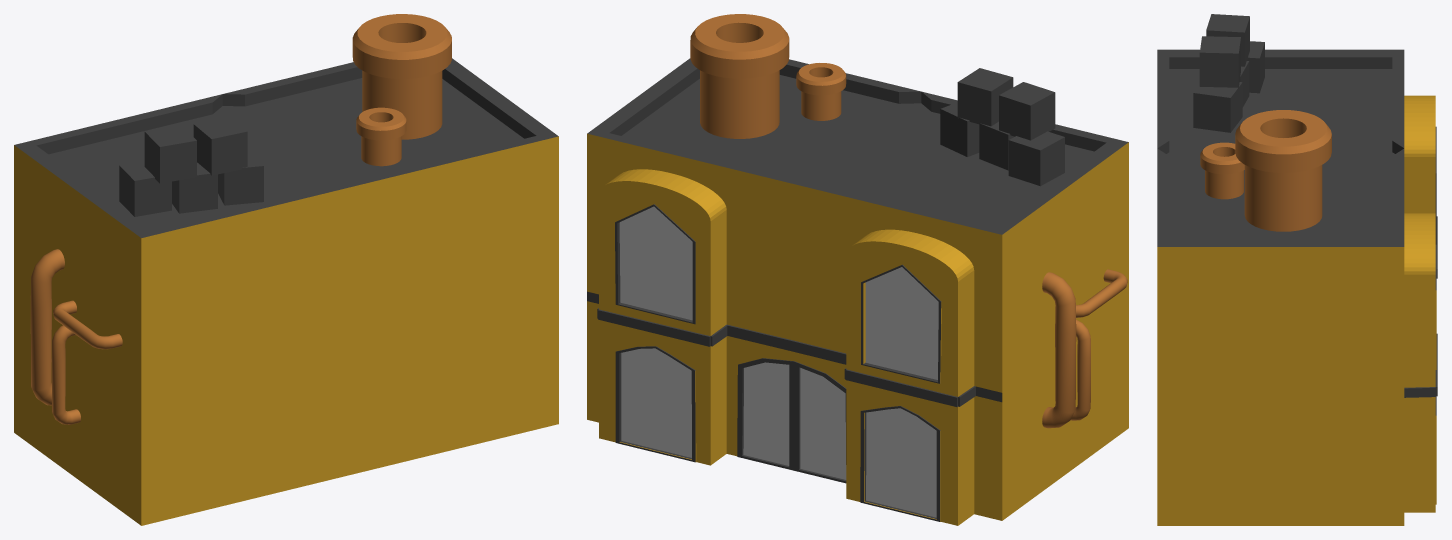
File: GoldFactory.fbx
The picture shows the model from 3 angles, left to right: view 1: azimuth 30°, elevation 25°; view 2: azimuth 150°, elevation 25°; view 3: azimuth 270°, elevation 25°; orthographic projection. The views are drawn at different scales.
Visible parts, largest first — view 1: Cube, Cylinder, Cube.005; view 2: Cube, Cylinder, Cube.005; view 3: Cube, Cylinder, Cube.005.
Part boxes in pixels (x1=…): Cube: x1=14, y1=58, x2=558, y2=525; Cylinder: x1=30, y1=14, x2=451, y2=424; Cube.005: x1=119, y1=116, x2=263, y2=216; Cube: x1=587, y1=58, x2=1128, y2=525; Cylinder: x1=690, y1=14, x2=1127, y2=428; Cube.005: x1=940, y1=68, x2=1064, y2=186; Cube: x1=1157, y1=49, x2=1437, y2=525; Cylinder: x1=1200, y1=110, x2=1331, y2=231; Cube.005: x1=1193, y1=14, x2=1264, y2=132.
Bounding box in the file's own units: 2549 × 1435 × 2002.
